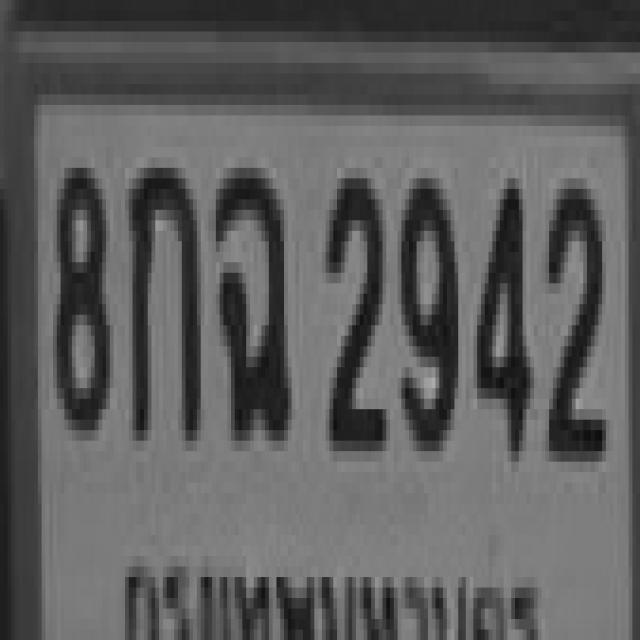10GorGai: (125, 157, 197, 430)
18ChorChing: (212, 157, 288, 430)
2: (322, 168, 382, 441), (544, 168, 600, 451)
4: (474, 168, 526, 451)
8: (53, 157, 106, 420)
9: (398, 168, 454, 441)
